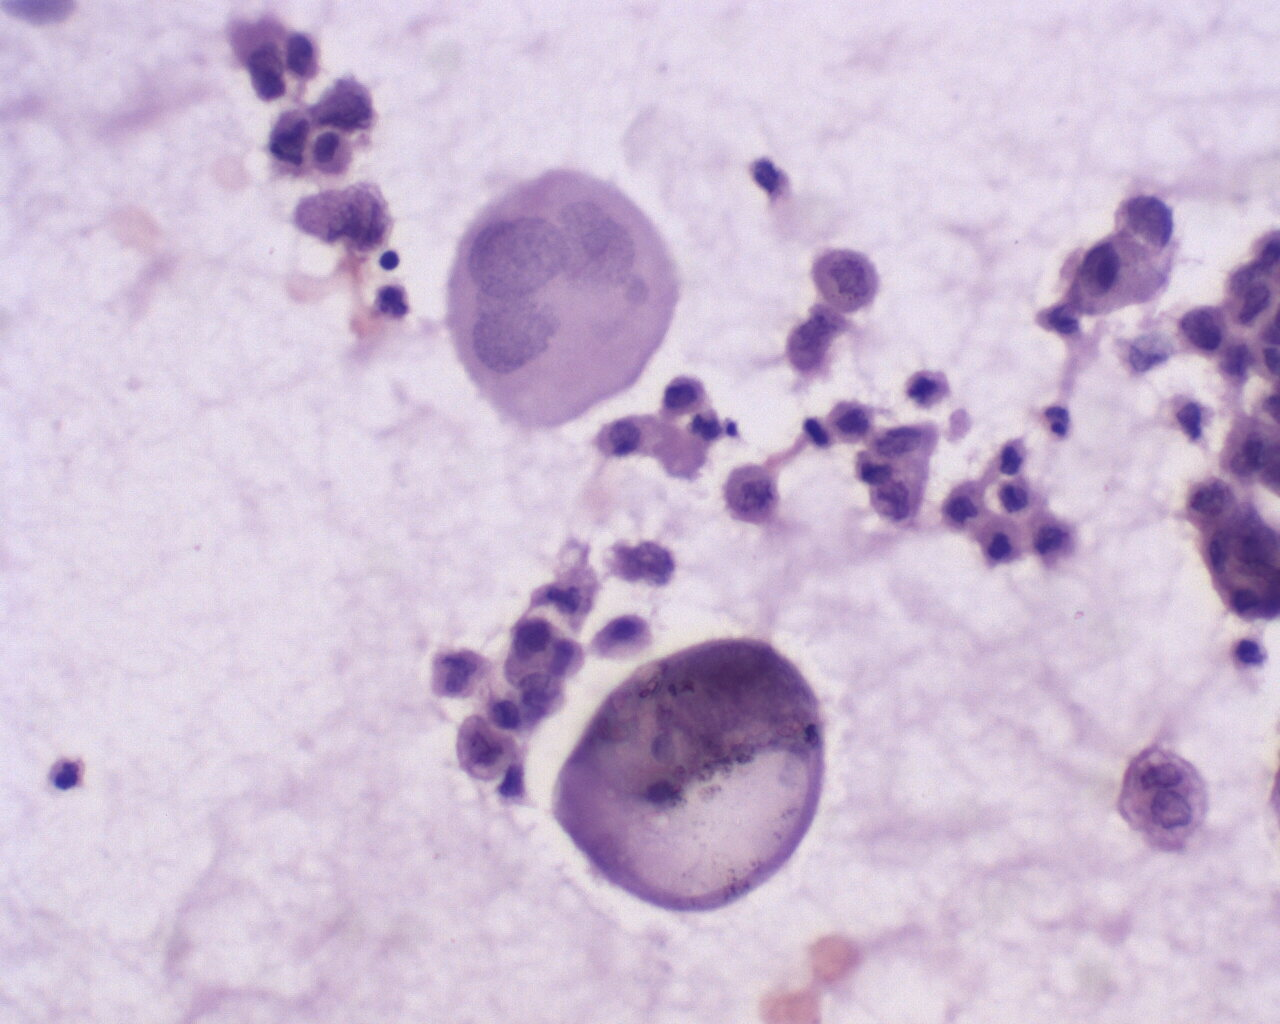ab: (554, 634, 829, 910), (436, 170, 681, 439), (810, 242, 885, 324)
meso: (589, 608, 660, 664)
neutro: (1037, 397, 1081, 446), (373, 278, 419, 319)
